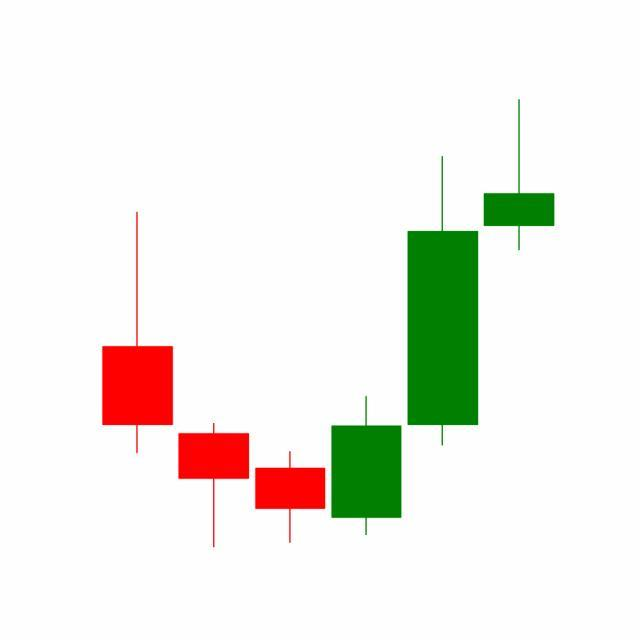Three Outside Up-Down: (252, 153, 482, 548)
